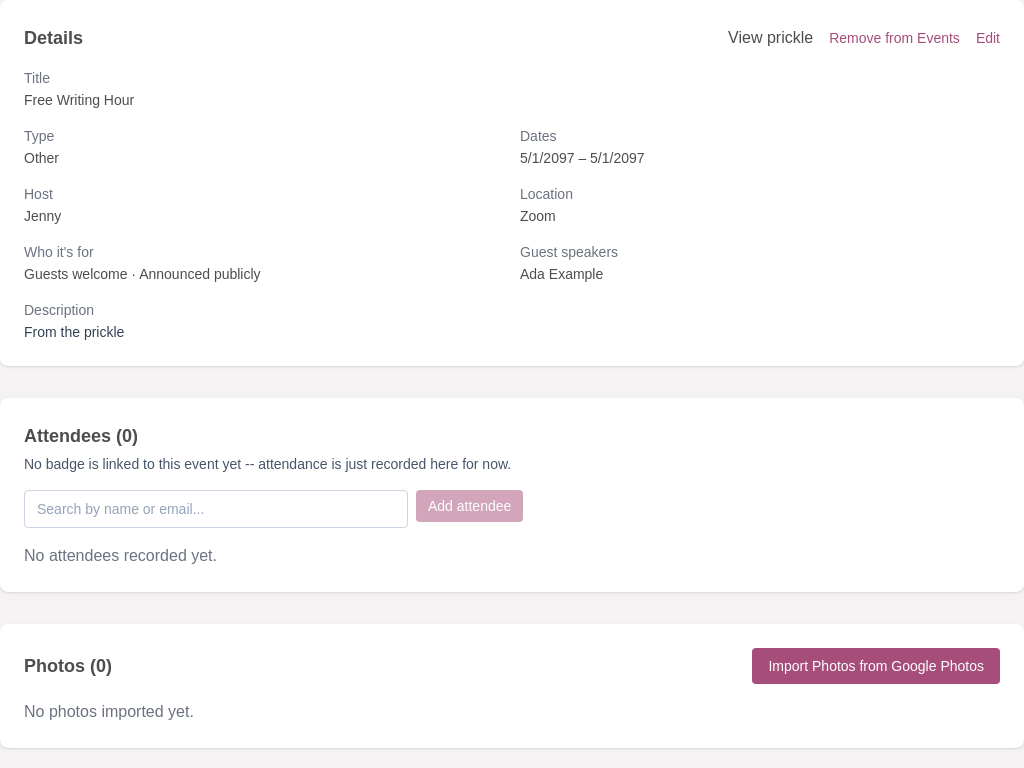
Test case: admin event on a calendar prickle › is an ordinary event, with everything editable and no note, when it was made in the Hub
Click the button "Edit" at {"x": 988, "y": 38}, box x1=976 y1=26 x2=1000 y2=50
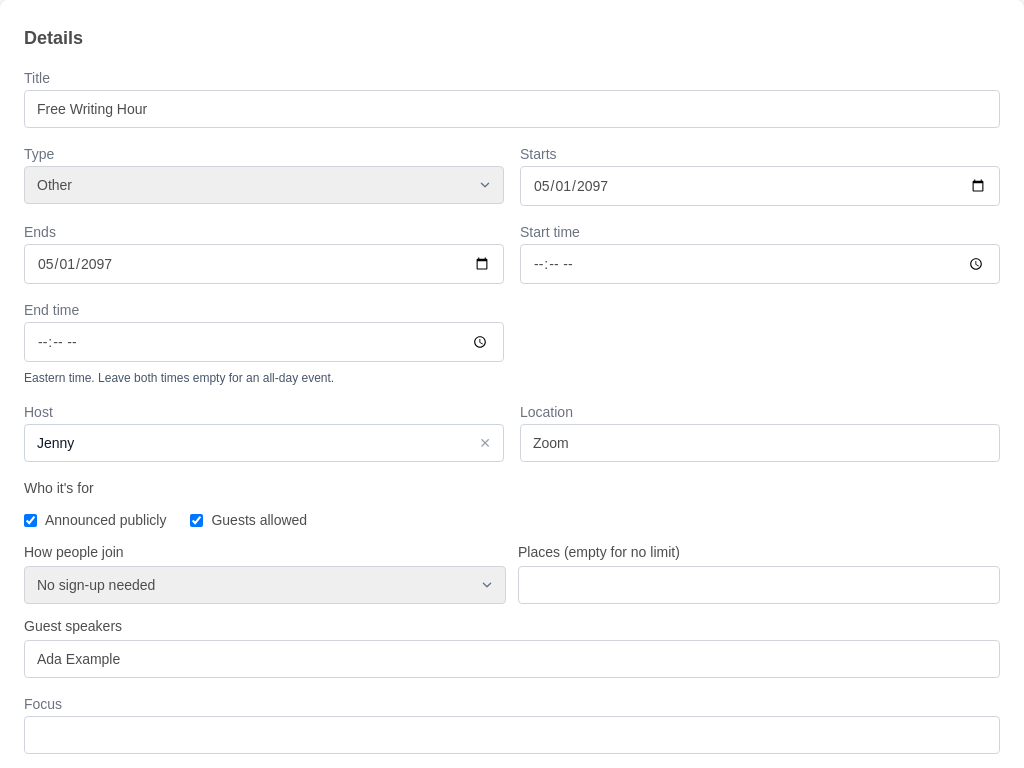
Expected: the text "Jenny" is shown, x1=37 y1=435 x2=74 y2=451
Expected: the field showing "Free Writing Hour" is enabled, x1=24 y1=90 x2=1000 y2=128
Expected: the field labelled "Guest speakers" is enabled, x1=24 y1=640 x2=1000 y2=678
